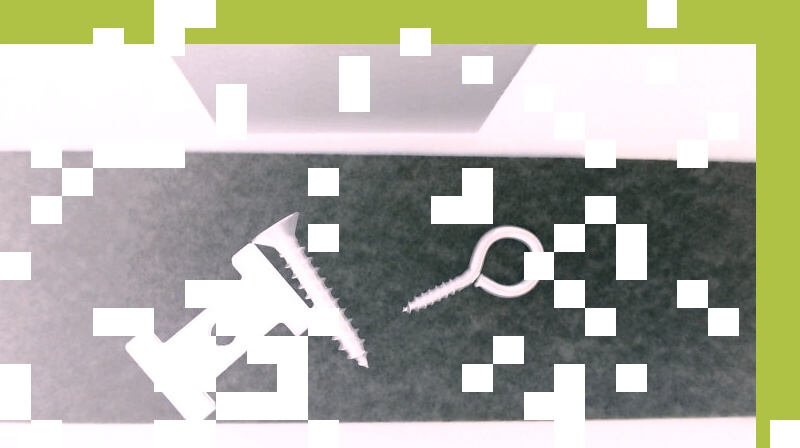O001: (401, 225, 547, 314)
O002: (124, 238, 319, 424)
S001: (251, 210, 370, 367)
